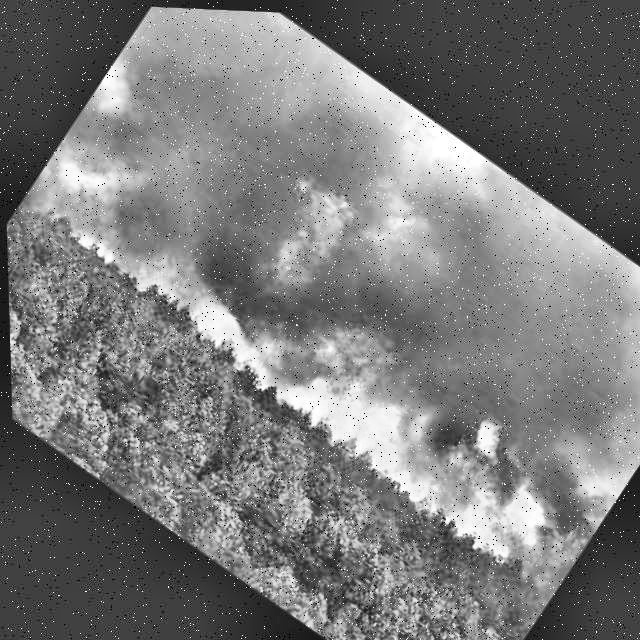Fire: (104, 179, 620, 598), (20, 116, 165, 266), (254, 166, 372, 300)
Smoke: (77, 3, 640, 487)
